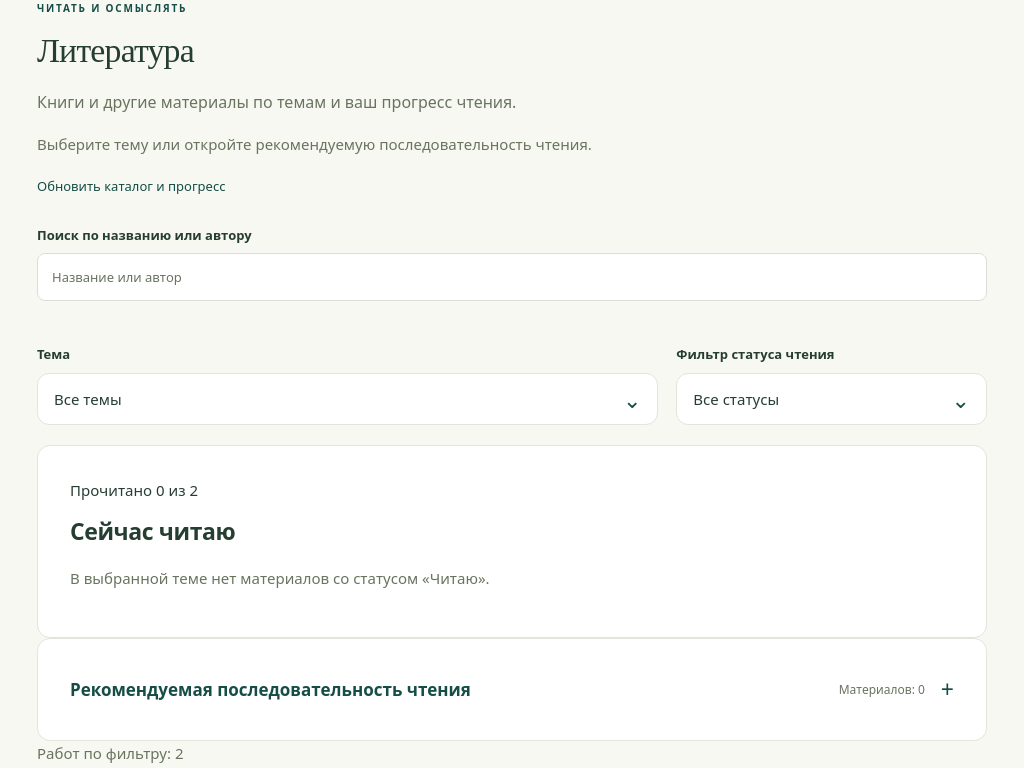
Scenario: finds cross-module disciplines and keeps exact book membership in pwa
Step 1. Click the dropdown named "Тема" → (88, 399), box [37,373,658,425]
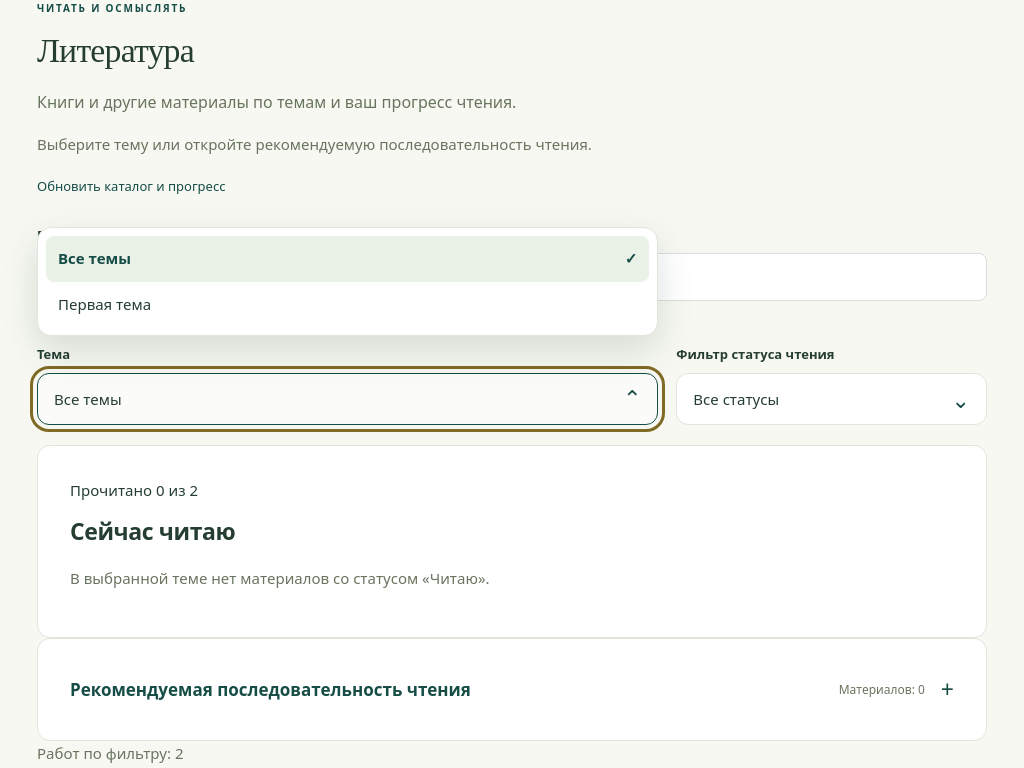
Step 2. Click the option "Первая тема" → (104, 304), box [58,294,151,314]
(page scrolled)
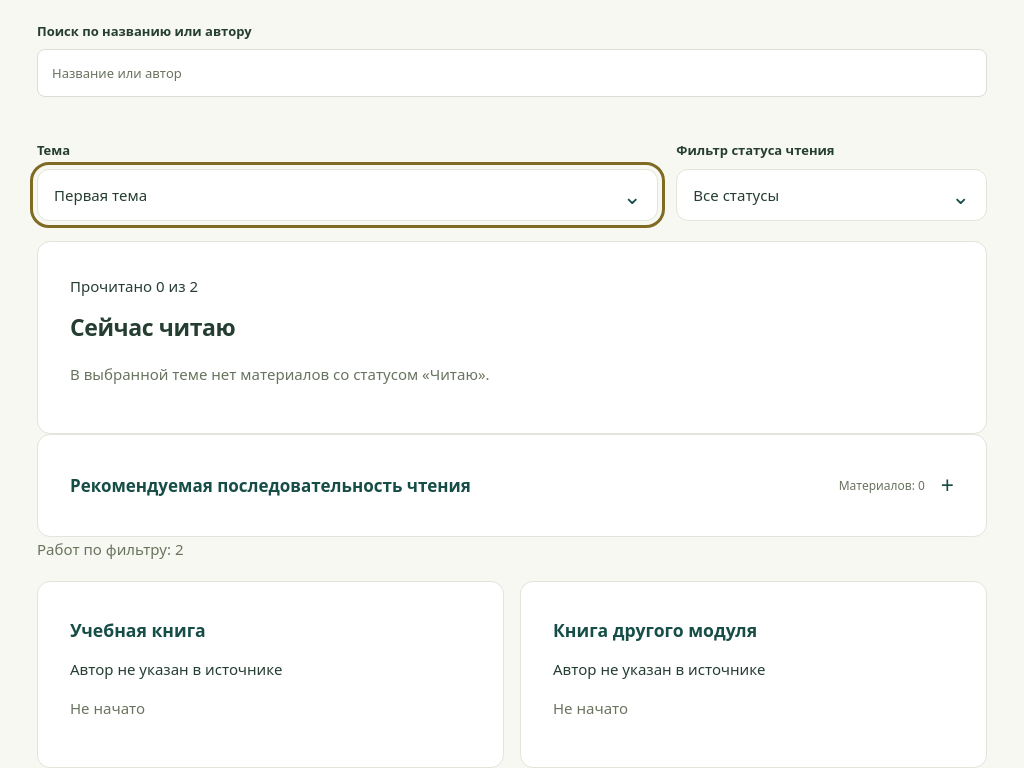
Expected: the button "Книга другого модуля" is shown, [553,614,757,647]
Now the dropdown labelled "тема" shows "Первая тема", box [37,169,658,221]
